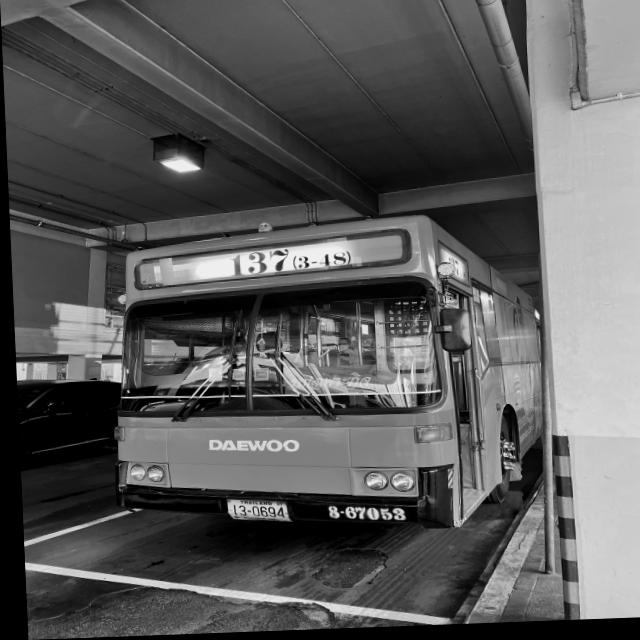BMTA-bus: (110, 219, 539, 534)
Bus Line Number: (220, 248, 352, 281)
Bus Side Number: (317, 504, 404, 529)
Destination Sign: (278, 367, 374, 399)
